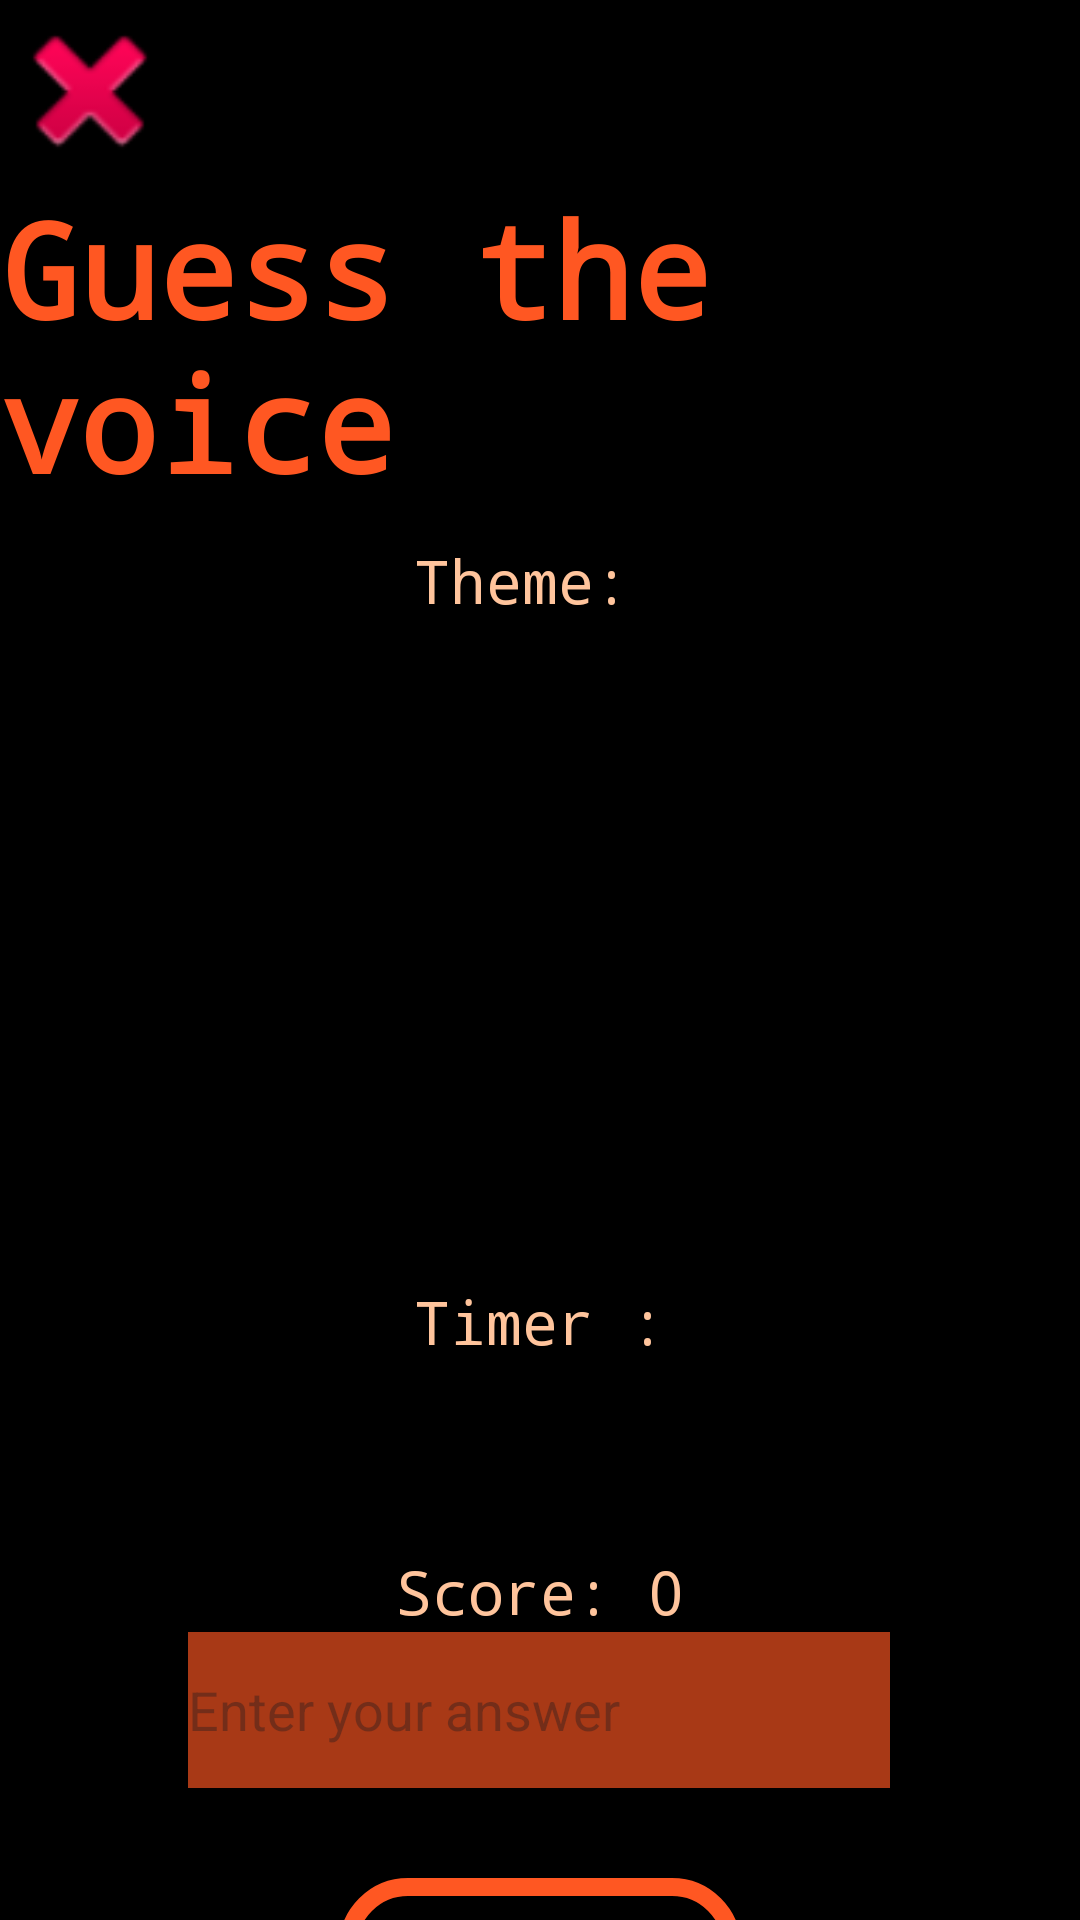

Screen size 1080px x 1920px. Icon name, then its center in pixels as point (x, y):
delete: point (90, 91)
